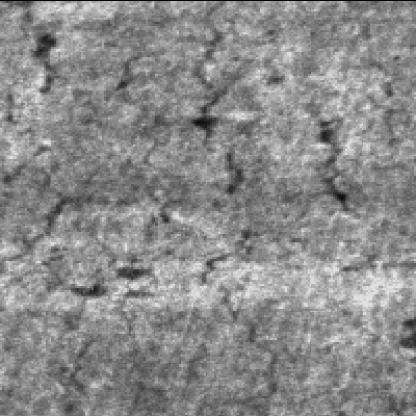crazing: (4, 12, 185, 410), (208, 56, 346, 412)
